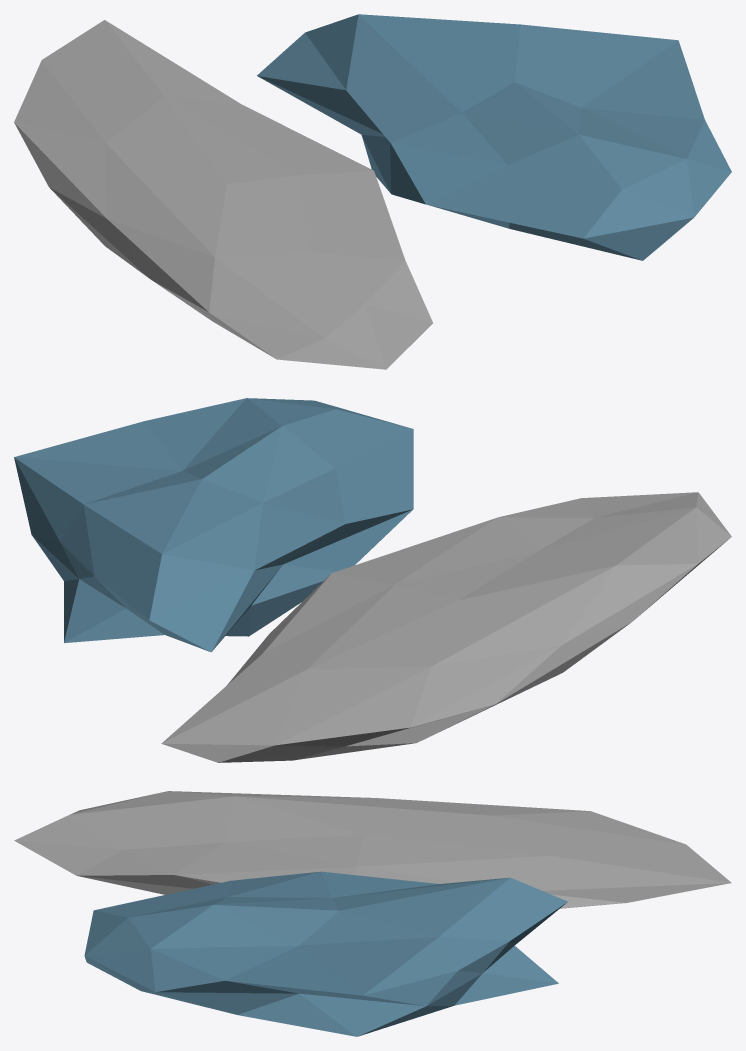
File: utc6.obj
3 renders of one model, top to bottom at view 1: azimuth 30°, elevation 25°; view 2: azimuth 150°, elevation 25°; view 3: azimuth 270°, elevation 25°, orthographic. The views are drawn at different scales.
Visible parts, largest first — view 1: Icosphere_Icosphere.002, Icosphere.001; view 2: Icosphere_Icosphere.002, Icosphere.001; view 3: Icosphere.001, Icosphere_Icosphere.002.
Boxes of the visible parts, x1,y1,x2,y2 form: Icosphere_Icosphere.002: (14, 20, 432, 369); Icosphere.001: (257, 14, 731, 260); Icosphere_Icosphere.002: (161, 492, 731, 762); Icosphere.001: (14, 398, 413, 652); Icosphere.001: (84, 871, 567, 1036); Icosphere_Icosphere.002: (14, 791, 731, 908).
Size of the model in its own units: 376 by 69.09 by 463.
